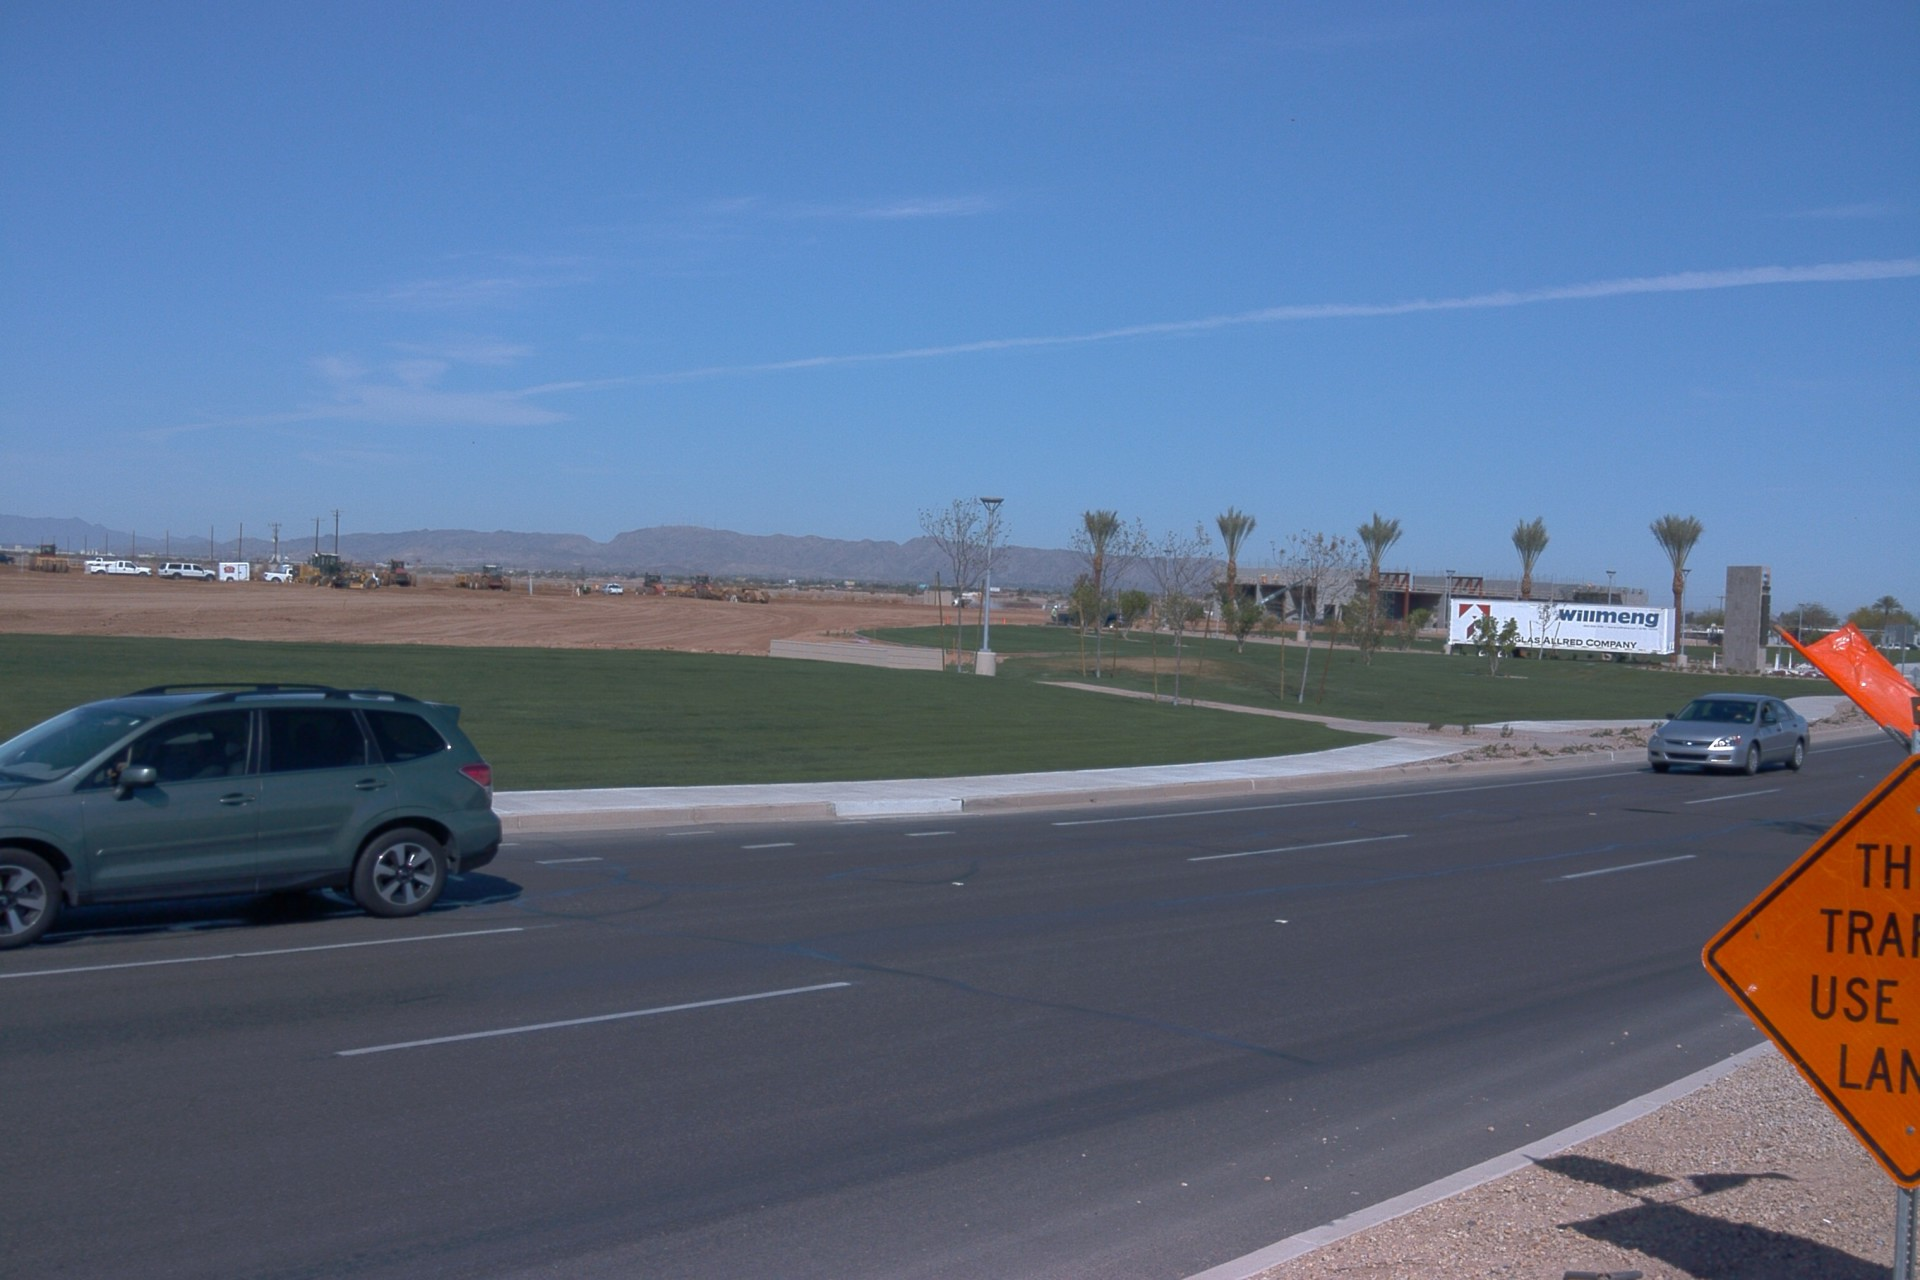TYPE_PEDESTRIAN: (1050, 604, 1058, 626), (582, 581, 590, 594), (594, 583, 600, 593)
TYPE_VEHICLE: (0, 680, 504, 955), (1444, 598, 1684, 666), (1645, 693, 1810, 777), (276, 553, 378, 597), (1252, 573, 1318, 607), (1049, 605, 1131, 628), (456, 561, 513, 593), (86, 560, 151, 579), (154, 565, 214, 585), (377, 563, 420, 587), (943, 592, 987, 613), (210, 565, 252, 585), (264, 567, 298, 585), (599, 581, 630, 594), (85, 559, 120, 570), (337, 560, 356, 579), (0, 548, 13, 563)
